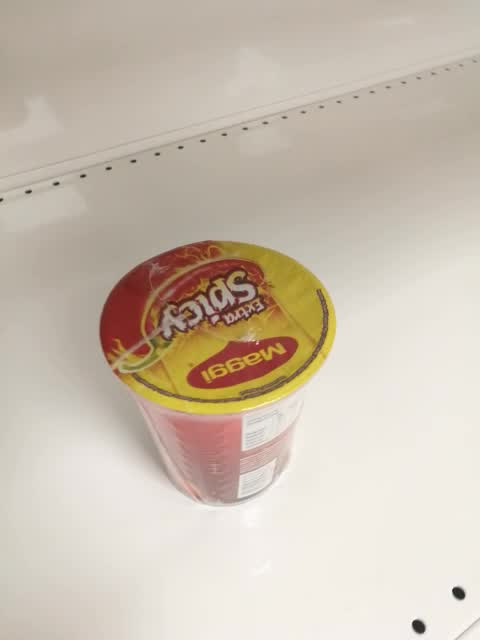maggi: (98, 239, 339, 508)
